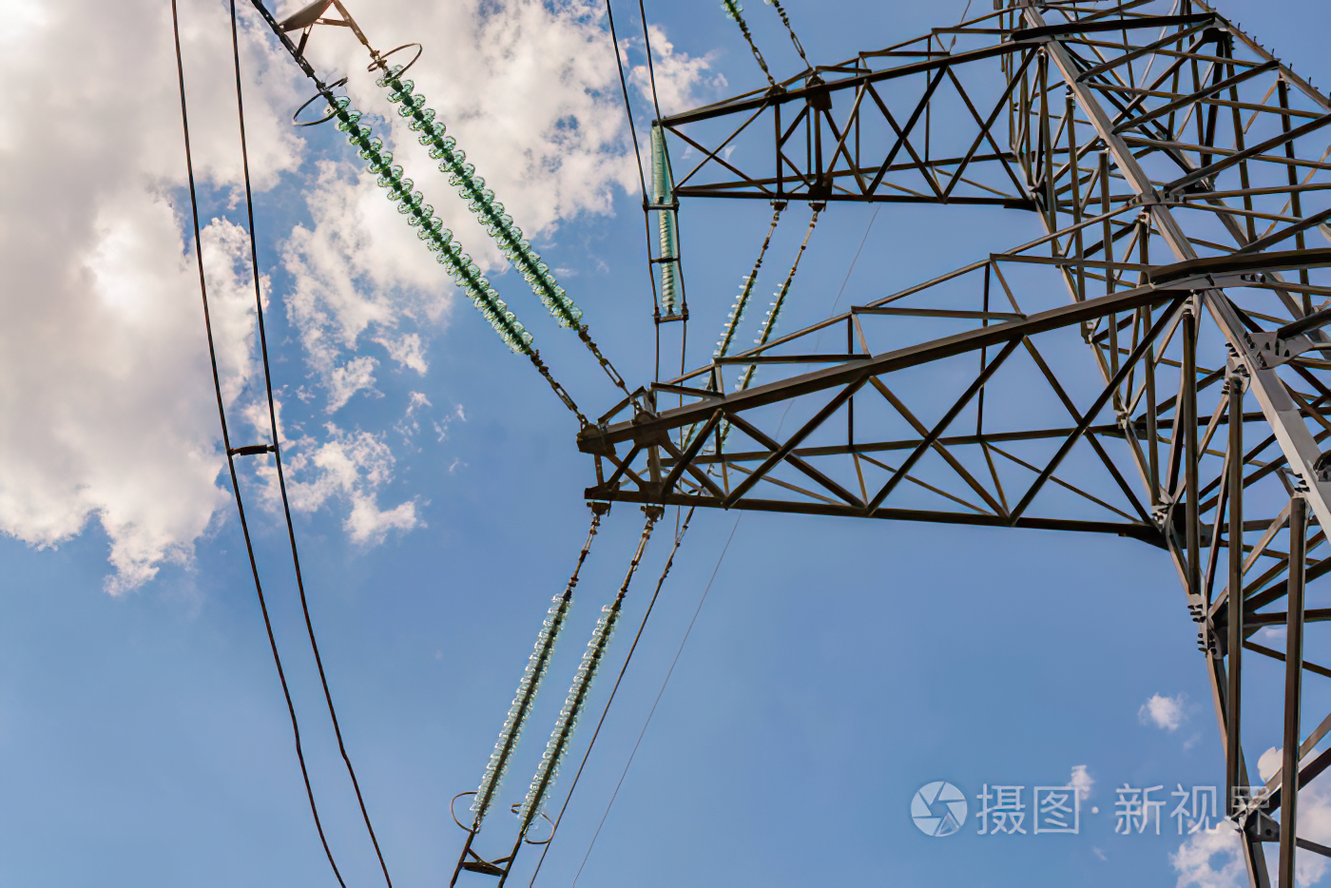insulator: (335, 65, 587, 368), (512, 602, 626, 839), (464, 587, 577, 815), (693, 271, 767, 389), (741, 284, 793, 390), (653, 208, 678, 309), (643, 122, 673, 200)
